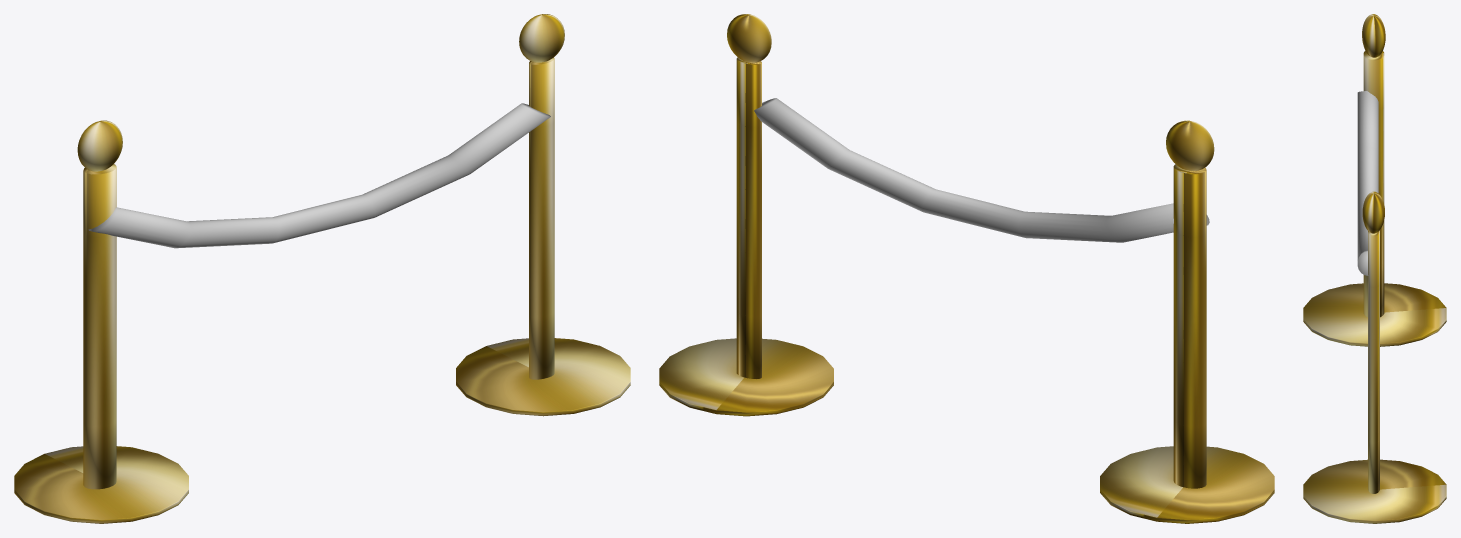
The model's file is separador.obj.
3 views of the same model, side by side, from view 1: azimuth 30°, elevation 25°; view 2: azimuth 150°, elevation 25°; view 3: azimuth 270°, elevation 25° (orthographic). The views are drawn at different scales.
Visible parts, largest first — view 1: Cylinder005, Cylinder004, Cylinder002, Cylinder003, Cylinder001, Sphere002, Sphere001; view 2: Cylinder005, Cylinder004, Cylinder002, Cylinder003, Cylinder001, Sphere002, Sphere001; view 3: Cylinder002, Cylinder003, Cylinder001, Cylinder005, Cylinder004, Sphere002, Sphere001.
Part boxes in pixels (<box>): Cylinder005: <box>88,103,550,248</box>; Cylinder004: <box>83,164,116,489</box>; Cylinder002: <box>456,338,630,416</box>; Cylinder003: <box>14,446,188,523</box>; Cylinder001: <box>529,57,554,379</box>; Sphere002: <box>77,120,122,171</box>; Sphere001: <box>519,14,564,62</box>; Cylinder005: <box>754,98,1209,242</box>; Cylinder004: <box>1173,164,1206,488</box>; Cylinder002: <box>659,338,833,416</box>; Cylinder003: <box>1100,446,1274,523</box>; Cylinder001: <box>736,57,761,378</box>; Sphere002: <box>1166,120,1214,170</box>; Sphere001: <box>727,14,771,62</box>; Cylinder002: <box>1303,459,1446,523</box>; Cylinder003: <box>1303,283,1446,346</box>; Cylinder001: <box>1368,230,1379,493</box>; Cylinder005: <box>1357,91,1378,275</box>; Cylinder004: <box>1363,50,1384,317</box>; Sphere002: <box>1362,14,1385,57</box>; Sphere001: <box>1362,191,1384,233</box>.
Size of the model in its own units: 35.98 by 21.11 by 9.15.
